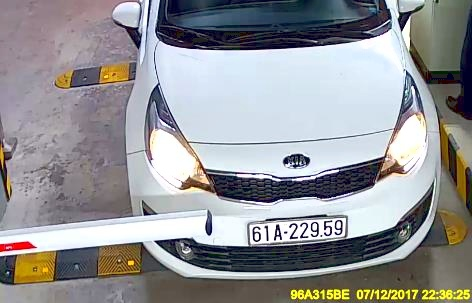plate: (246, 216, 352, 243)
